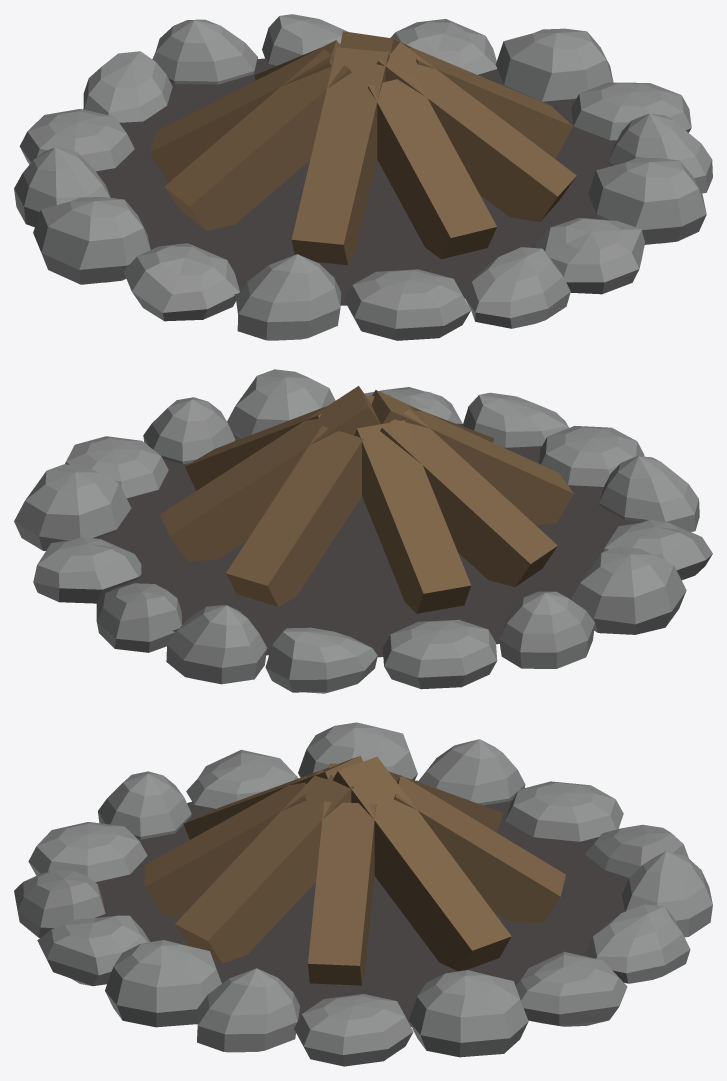
Rendered from Campfire.fbx.
3 renders of one model, top to bottom at view 1: azimuth 30°, elevation 25°; view 2: azimuth 150°, elevation 25°; view 3: azimuth 270°, elevation 25°, orthographic. The views are drawn at different scales.
Parts seen in each view (by area): view 1: Campfire; view 2: Campfire; view 3: Campfire.
Part boxes in pixels (x1=…): Campfire: x1=14, y1=14, x2=712, y2=340; Campfire: x1=14, y1=369, x2=712, y2=693; Campfire: x1=14, y1=722, x2=712, y2=1066.
Bounding box in the file's own units: 6.86 × 1.75 × 6.67.
